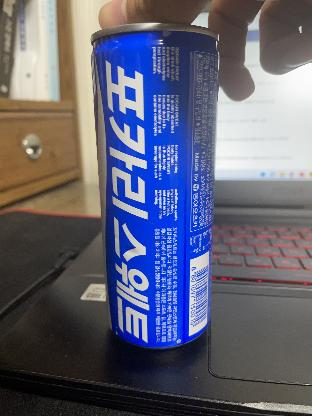Can: (72, 6, 224, 356)
